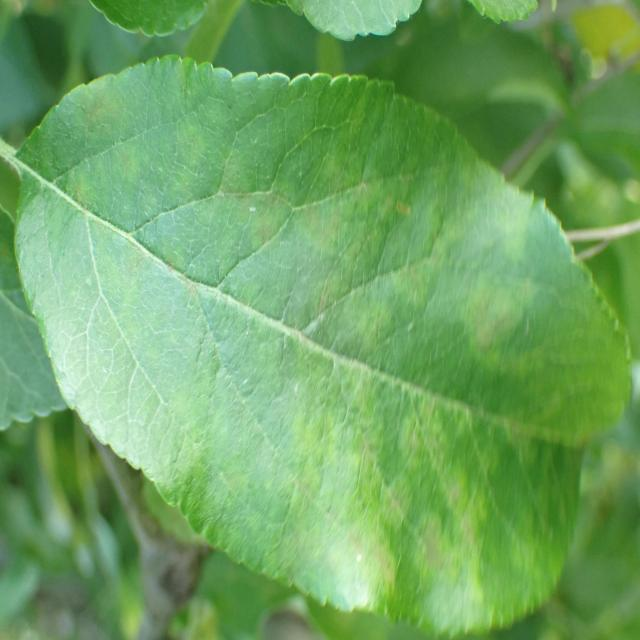scab: (50, 65, 581, 611)
